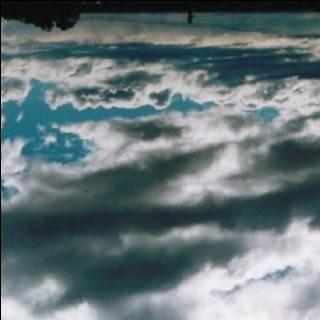Stratocumulus: (0, 28, 320, 320)
